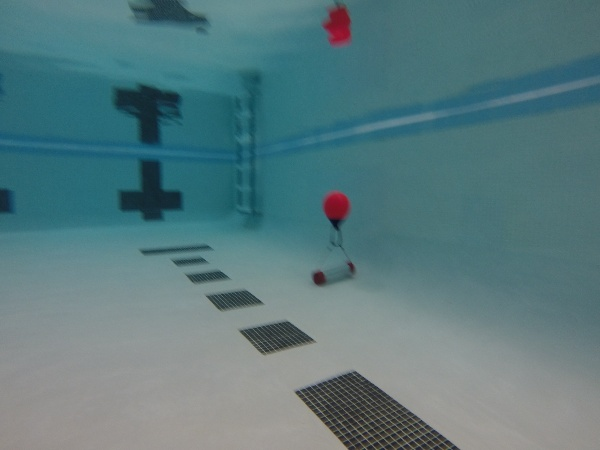buoy_red: (320, 189, 351, 229)
